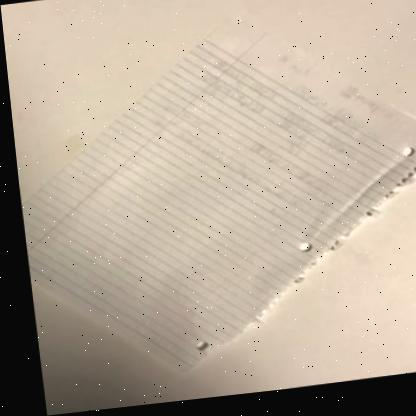Paper: (17, 33, 416, 372)
